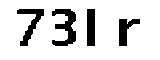3: (46, 6, 78, 52)
7: (12, 5, 45, 50)
I: (83, 4, 107, 50)
r: (115, 13, 146, 50)
